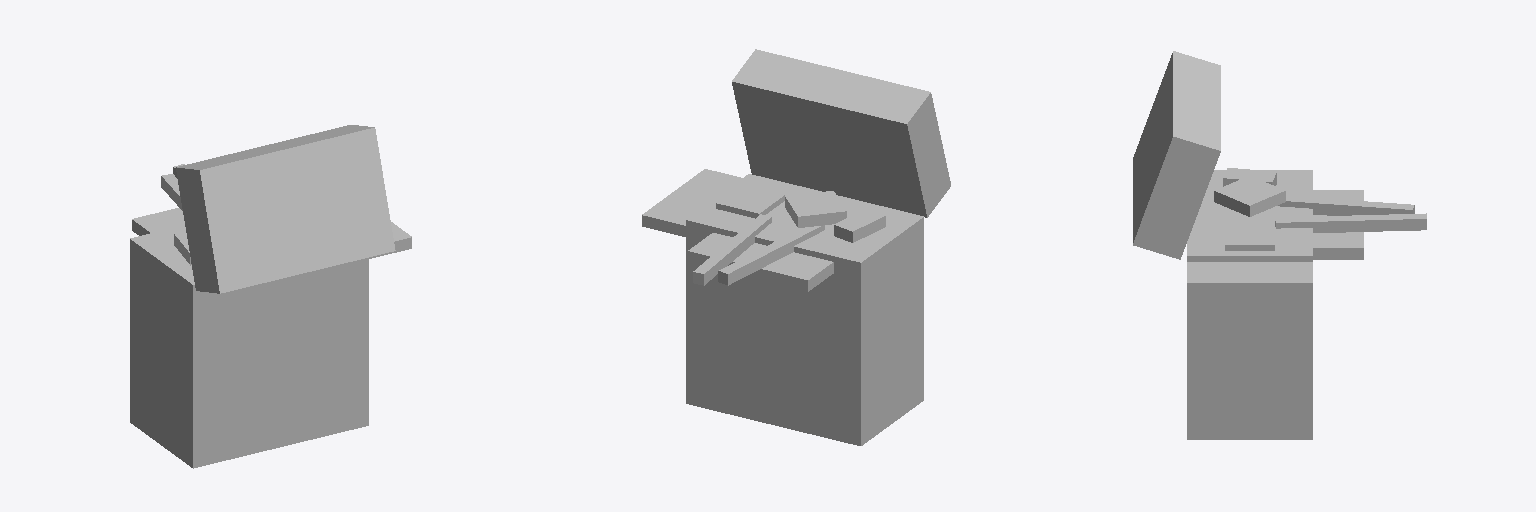
File: churrasqueira_opened.obj
3 renders of one model, left to right at view 1: azimuth 30°, elevation 25°; view 2: azimuth 150°, elevation 25°; view 3: azimuth 270°, elevation 25°, orthographic.
Visible parts, largest first — view 1: pes, tampa, cacamba, talbafr; view 2: pes, tampa, cacamba, talbafr, talbald, espatula2, 2, espatula1, 1, 3; view 3: pes, tampa, cacamba, talbald, espatula1, 2, talbafr, espatula2, 1, 3.
Part boxes in pixels (bbox=[...]): pes: bbox=[130, 285, 368, 468]; tampa: bbox=[176, 125, 395, 293]; cacamba: bbox=[130, 225, 368, 330]; talbafr: bbox=[132, 208, 184, 235]; pes: bbox=[686, 263, 923, 445]; tampa: bbox=[732, 49, 950, 217]; cacamba: bbox=[686, 174, 923, 308]; talbafr: bbox=[688, 233, 833, 291]; talbald: bbox=[642, 169, 741, 236]; espatula2: bbox=[718, 225, 824, 285]; 2: bbox=[785, 191, 846, 227]; espatula1: bbox=[693, 214, 771, 285]; 1: bbox=[716, 185, 784, 218]; 3: bbox=[834, 209, 885, 242]; pes: bbox=[1187, 302, 1312, 439]; tampa: bbox=[1133, 51, 1220, 259]; cacamba: bbox=[1187, 170, 1312, 301]; talbald: bbox=[1187, 262, 1312, 294]; espatula1: bbox=[1275, 213, 1426, 232]; 2: bbox=[1214, 176, 1285, 216]; talbafr: bbox=[1313, 190, 1363, 259]; espatula2: bbox=[1278, 196, 1414, 215]; 1: bbox=[1225, 224, 1274, 250]; 3: bbox=[1223, 168, 1276, 186].
Size of the model in its own units: 1.25 by 1.65 by 1.46.